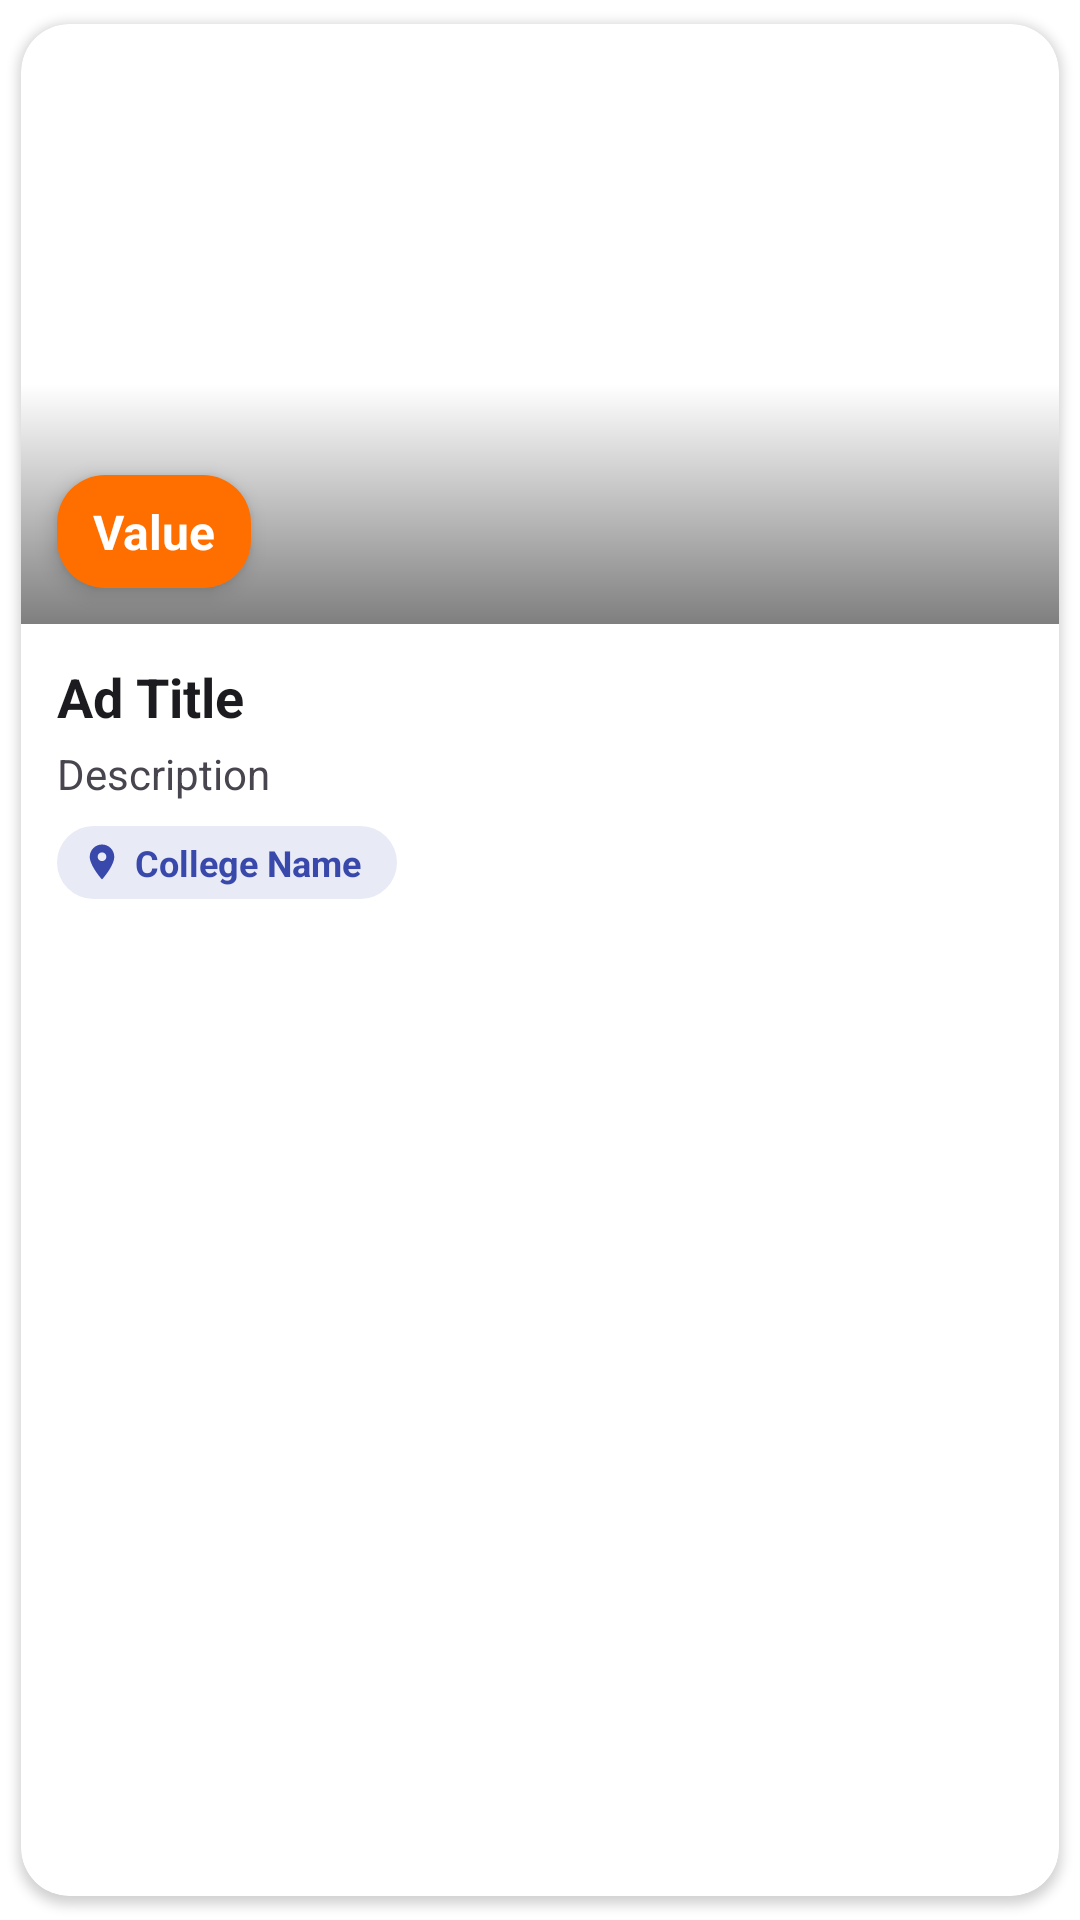

Where icons sit on this 1080 x 1920 app screen, as region(x1, y1, x2, y2):
location: region(89, 844, 115, 879)
